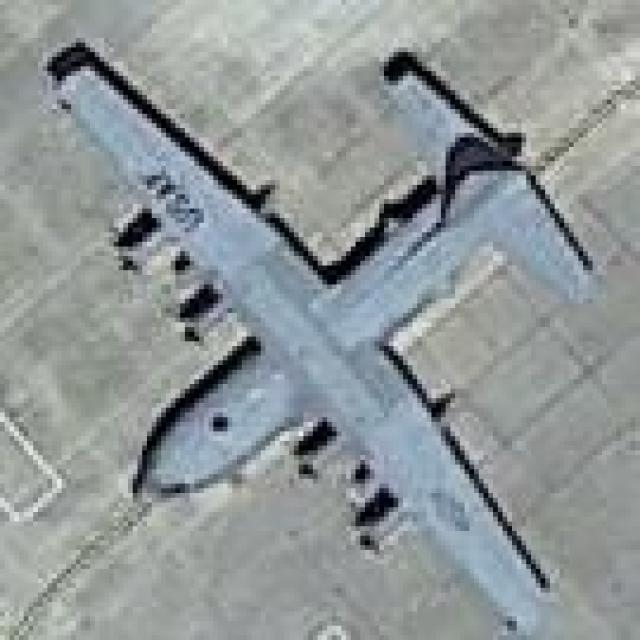C-130_TopDown: (39, 0, 602, 639)
